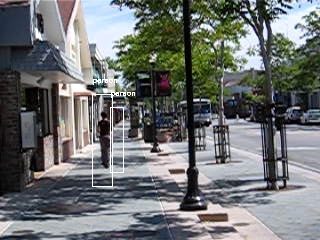person: (97, 112, 116, 169), (96, 112, 115, 169), (98, 112, 117, 169), (97, 111, 116, 168), (97, 113, 116, 170)
target_negative: (40, 8, 311, 160), (12, 154, 138, 220), (128, 67, 263, 125), (167, 109, 180, 117)
